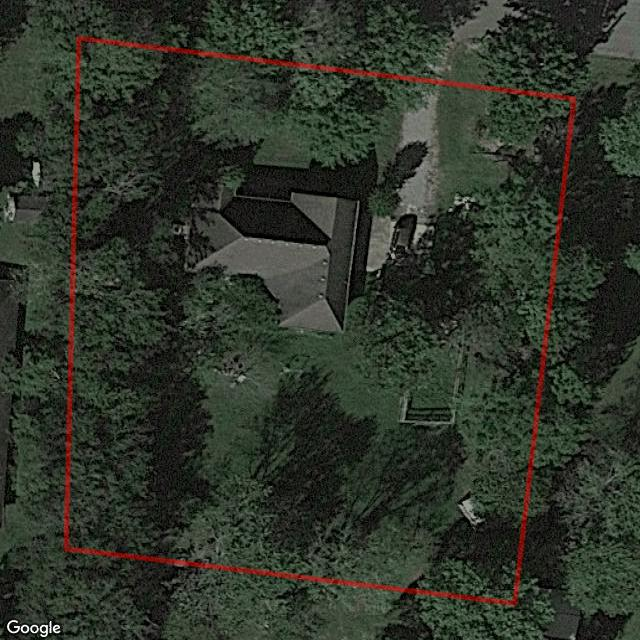Driveway: (369, 94, 437, 269)
House: (181, 181, 360, 333)
